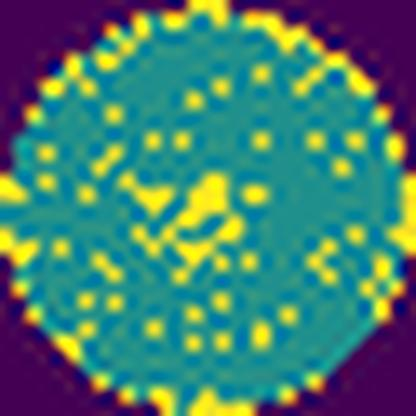Center: (119, 166, 249, 282)
